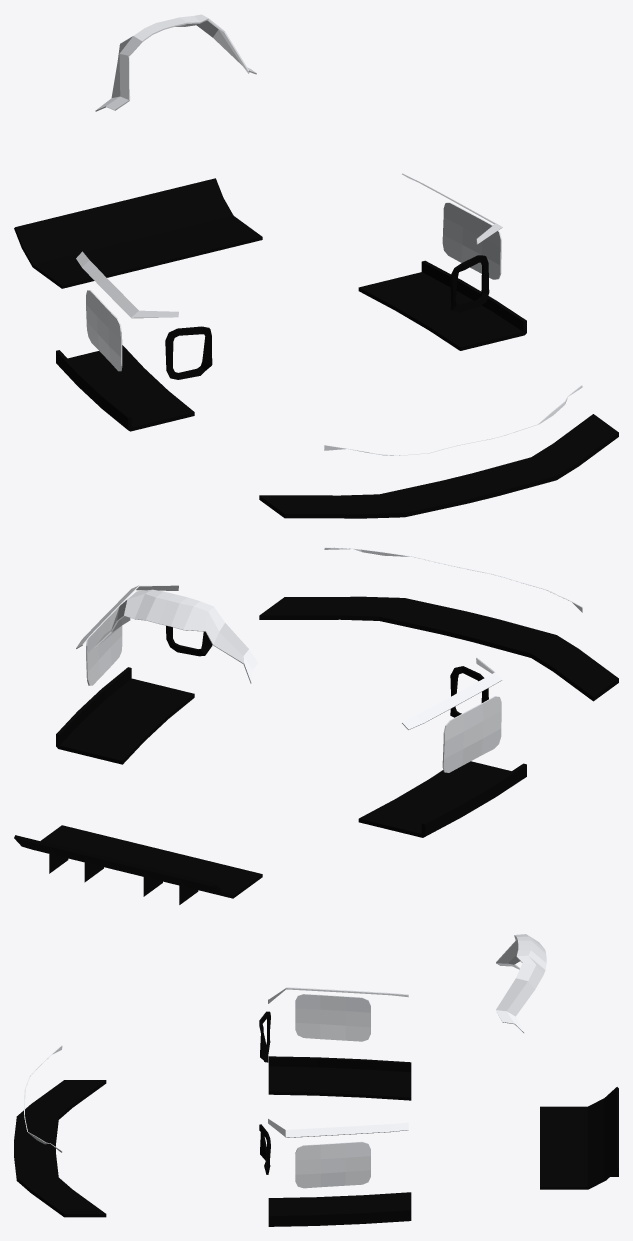
The model's file is kart-details.glb.
3 renders of one model, top to bottom at view 1: azimuth 30°, elevation 25°; view 2: azimuth 150°, elevation 25°; view 3: azimuth 270°, elevation 25°, orthographic. The views are drawn at different scales.
Parts seen in each view (by area): view 1: CarbonDiffuser, CarbonSkirts, CarbonSplitter, WhiteNumberBoards, WhiteSeatTrim, CarbonIntakes, WhitePodStripes; view 2: CarbonSkirts, CarbonSplitter, CarbonDiffuser, WhiteNumberBoards, WhiteSeatTrim, WhitePodStripes, CarbonIntakes, WhiteNoseStripe; view 3: CarbonSkirts, CarbonDiffuser, WhiteNumberBoards, CarbonSplitter, WhiteSeatTrim, WhitePodStripes, CarbonIntakes.
Boxes of the visible parts, x1,y1,x2,y2 form: CarbonDiffuser: (14,178,262,288); CarbonSkirts: (56,260,526,431); CarbonSplitter: (259,414,618,518); WhiteNumberBoards: (86,202,501,371); WhiteSeatTrim: (95,14,256,111); CarbonIntakes: (165,255,489,379); WhitePodStripes: (76,173,502,318); CarbonSkirts: (56,667,526,837); CarbonSplitter: (259,596,618,701); CarbonDiffuser: (14,825,262,904); WhiteNumberBoards: (86,606,501,772); WhiteSeatTrim: (94,589,257,683); WhitePodStripes: (76,585,502,729); CarbonIntakes: (166,626,488,717); WhiteNoseStripe: (324,547,582,612); CarbonSkirts: (268,1056,411,1226); CarbonDiffuser: (540,1087,618,1189); WhiteNumberBoards: (295,994,370,1188); CarbonSplitter: (14,1080,106,1217); WhiteSeatTrim: (496,934,546,1032); WhitePodStripes: (268,987,408,1137); CarbonIntakes: (259,1011,270,1174).
Bounding box in the file's own units: 1.35 × 0.8117 × 2.16.
Materials: 2 (1 with a texture image).
